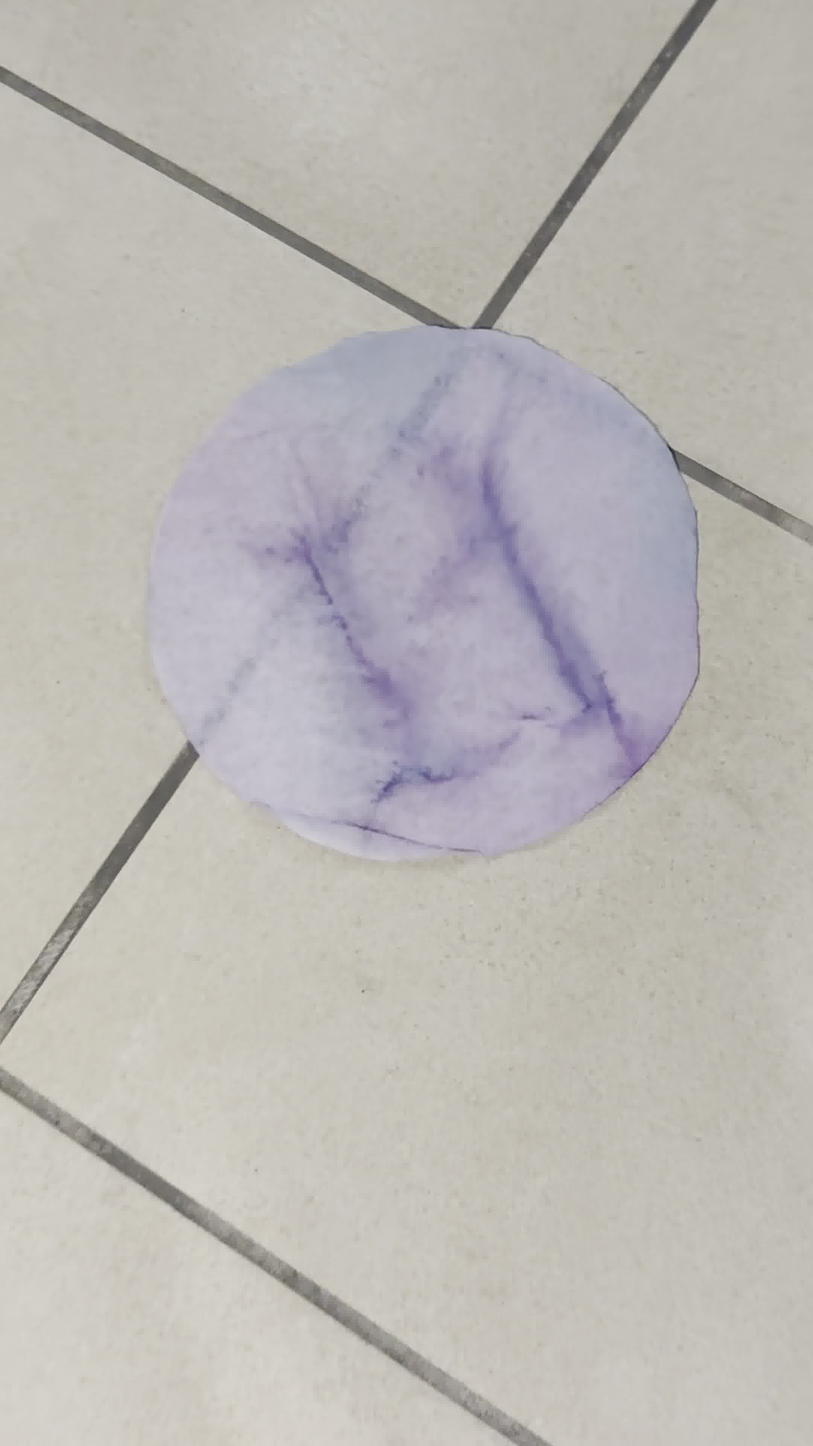Target: (145, 328, 698, 865)
